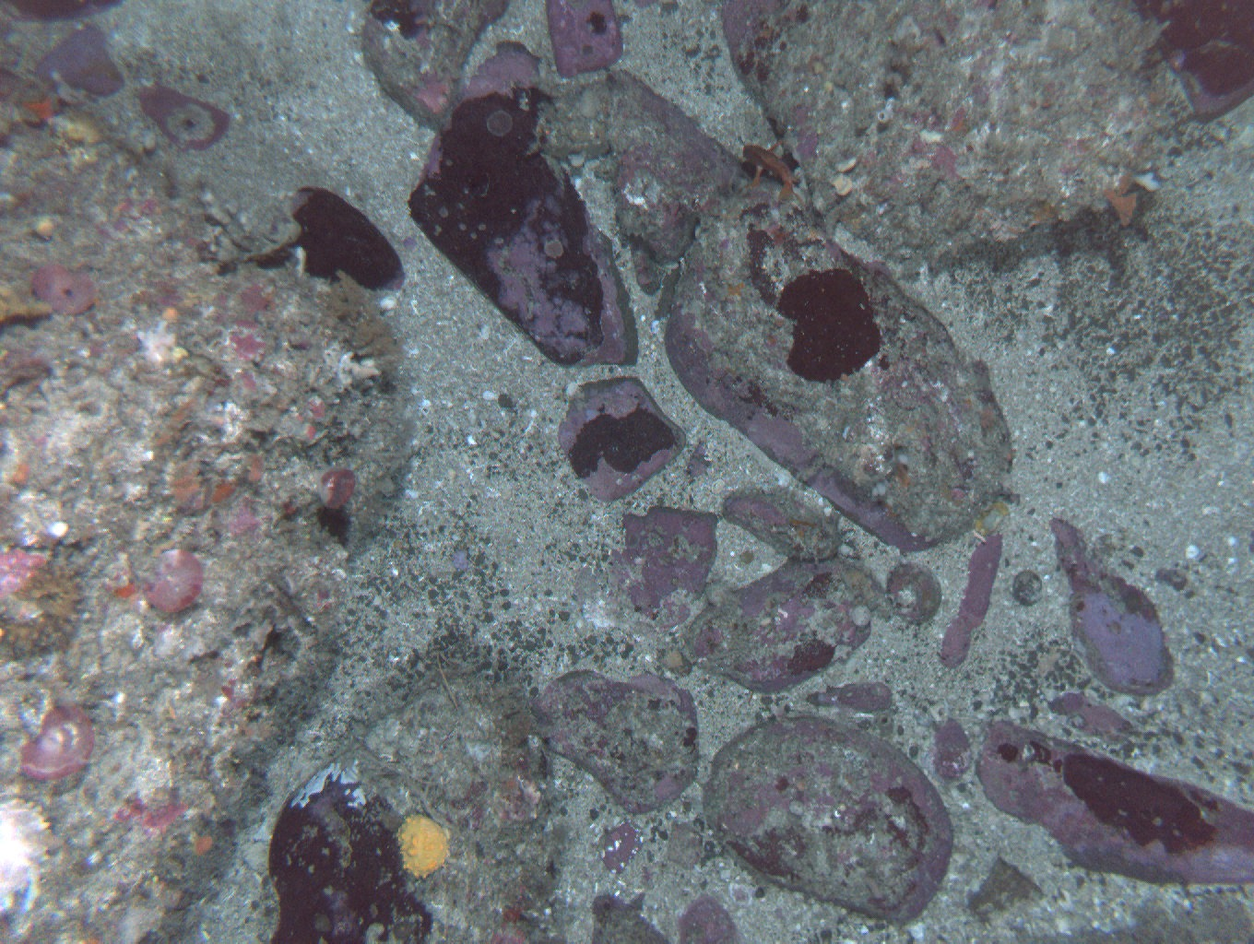Brachionichthyidae: (742, 138, 804, 206)
